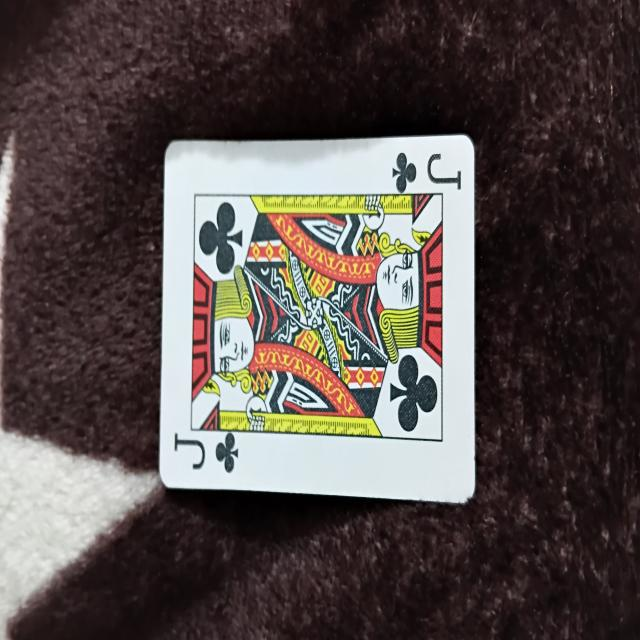JC: (161, 128, 476, 496)
